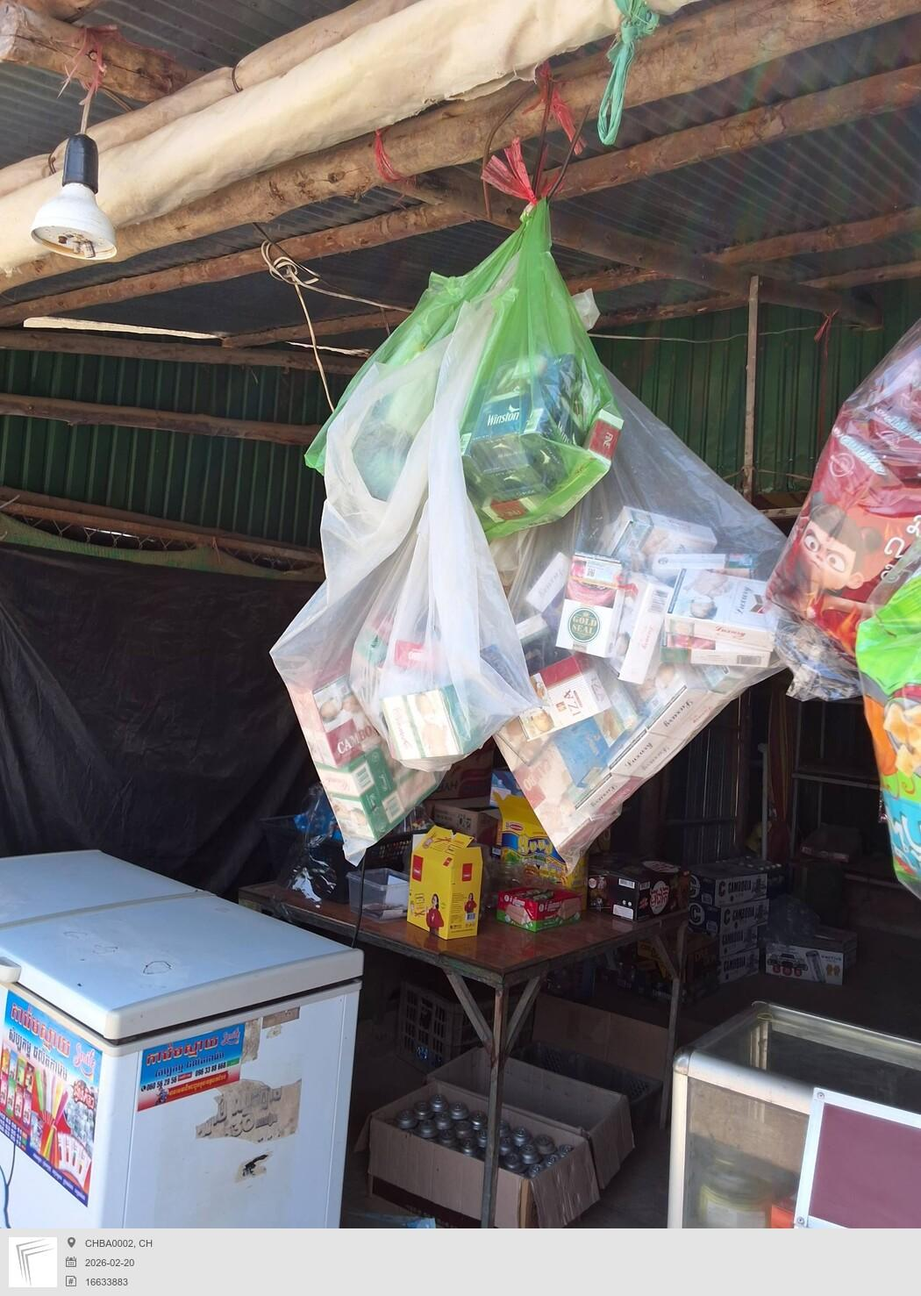cigarette_pack: (494, 722, 608, 861), (664, 566, 785, 648), (282, 672, 385, 763), (553, 552, 636, 656), (597, 506, 725, 567), (517, 662, 603, 746), (313, 757, 394, 841), (587, 673, 652, 766), (632, 659, 709, 737), (608, 578, 663, 682), (383, 684, 456, 757), (392, 629, 462, 681), (567, 776, 630, 819), (608, 733, 667, 776), (660, 646, 772, 668), (650, 552, 767, 572), (631, 741, 688, 776)
